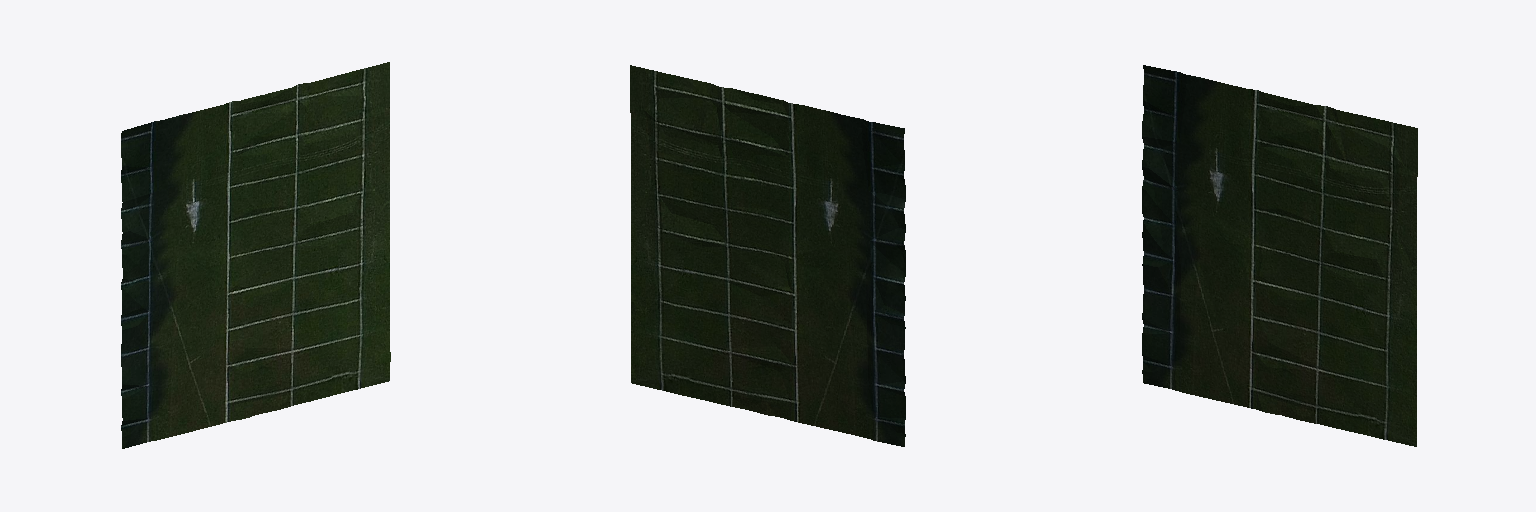
3 views of the same model, side by side, from view 1: azimuth 30°, elevation 25°; view 2: azimuth 150°, elevation 25°; view 3: azimuth 330°, elevation 25° (orthographic).
Parts seen in each view (by area): view 1: obj_0; view 2: obj_0; view 3: obj_0.
Boxes of the visible parts, <box> form: obj_0: <box>121,62,390,448</box>; obj_0: <box>630,65,905,446</box>; obj_0: <box>1142,65,1417,446</box>.
Size of the model in its own units: 20.08 by 22.53 by 0.6307.
Materials: 1 (1 with a texture image).